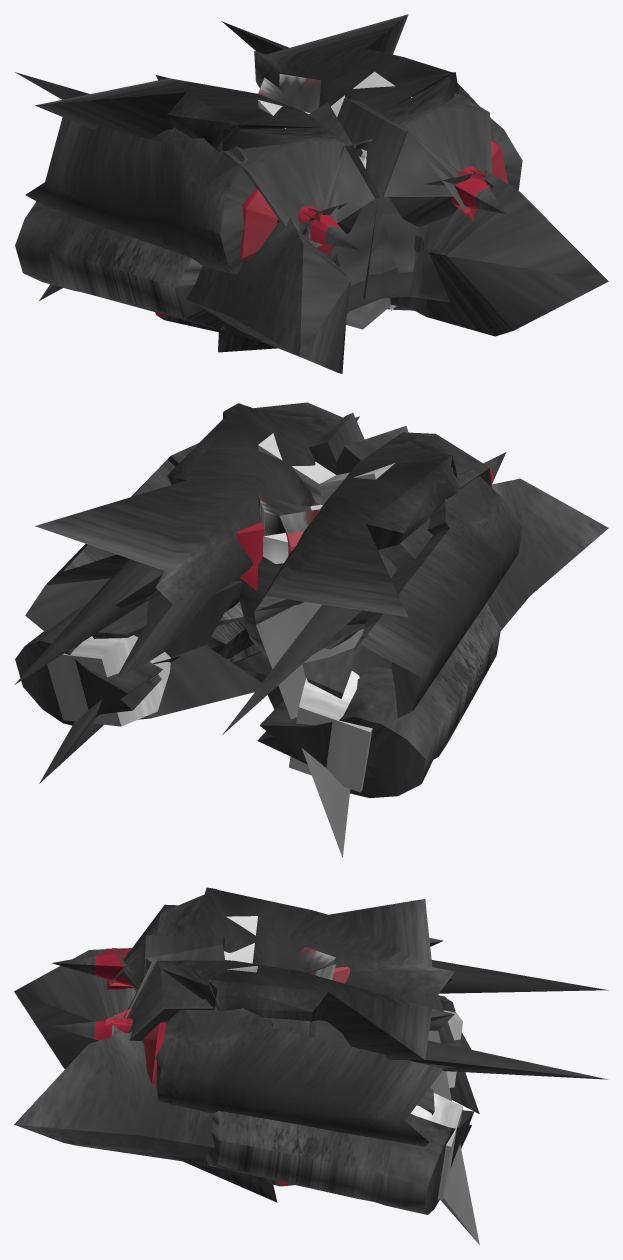
The model's file is player_under_shield.fbx.
3 views of the same model, one above another, from view 1: azimuth 30°, elevation 25°; view 2: azimuth 150°, elevation 25°; view 3: azimuth 270°, elevation 25° (orthographic). The views are drawn at different scales.
Parts seen in each view (by area): view 1: mqo_mesh; view 2: mqo_mesh; view 3: mqo_mesh.
Part boxes in pixels (bbox=[...]): mqo_mesh: bbox=[15, 14, 608, 373]; mqo_mesh: bbox=[14, 402, 608, 857]; mqo_mesh: bbox=[14, 887, 608, 1244].
Size of the model in its own units: 11.92 by 7.74 by 16.92.
